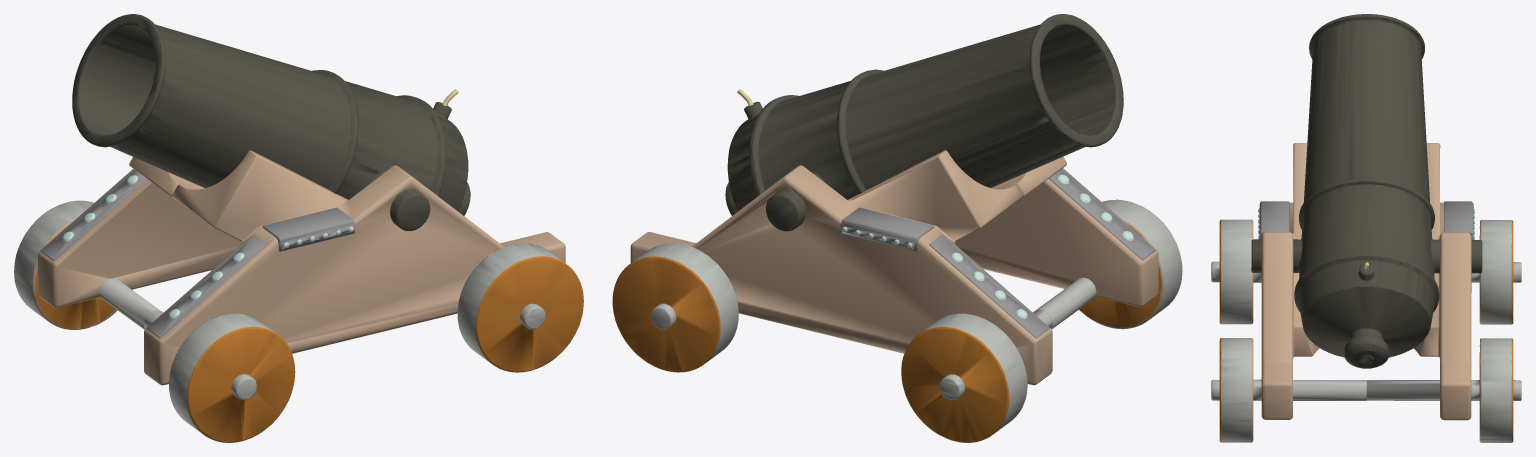
File: parcel-cannon.glb
3 renders of one model, left to right at view 1: azimuth 30°, elevation 25°; view 2: azimuth 150°, elevation 25°; view 3: azimuth 270°, elevation 25°, orthographic. The views are drawn at different scales.
Parts seen in each view (by area): view 1: Carriage left, Barrel, Carriage right; view 2: Carriage right, Barrel, Carriage left; view 3: Barrel, Carriage left, Carriage right.
Boxes of the visible parts, bbox=[...] form: Carriage left: bbox=[144, 150, 583, 442]; Barrel: bbox=[72, 14, 470, 231]; Carriage right: bbox=[14, 157, 241, 329]; Carriage right: bbox=[612, 150, 1052, 442]; Barrel: bbox=[725, 14, 1123, 231]; Carriage left: bbox=[955, 157, 1182, 329]; Barrel: bbox=[1251, 14, 1482, 368]; Carriage left: bbox=[1211, 143, 1366, 442]; Carriage right: bbox=[1366, 143, 1521, 442].
Bounding box in the file's own units: 1.41 × 1.16 × 1.08.
